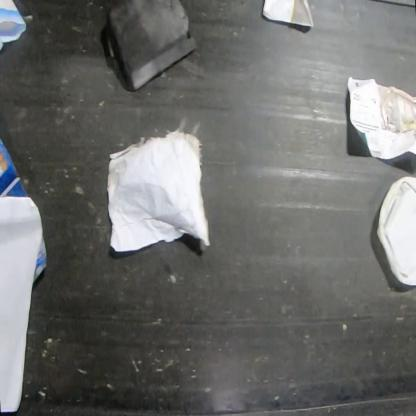rigid_plastic: (105, 1, 199, 92), (377, 175, 415, 287)
